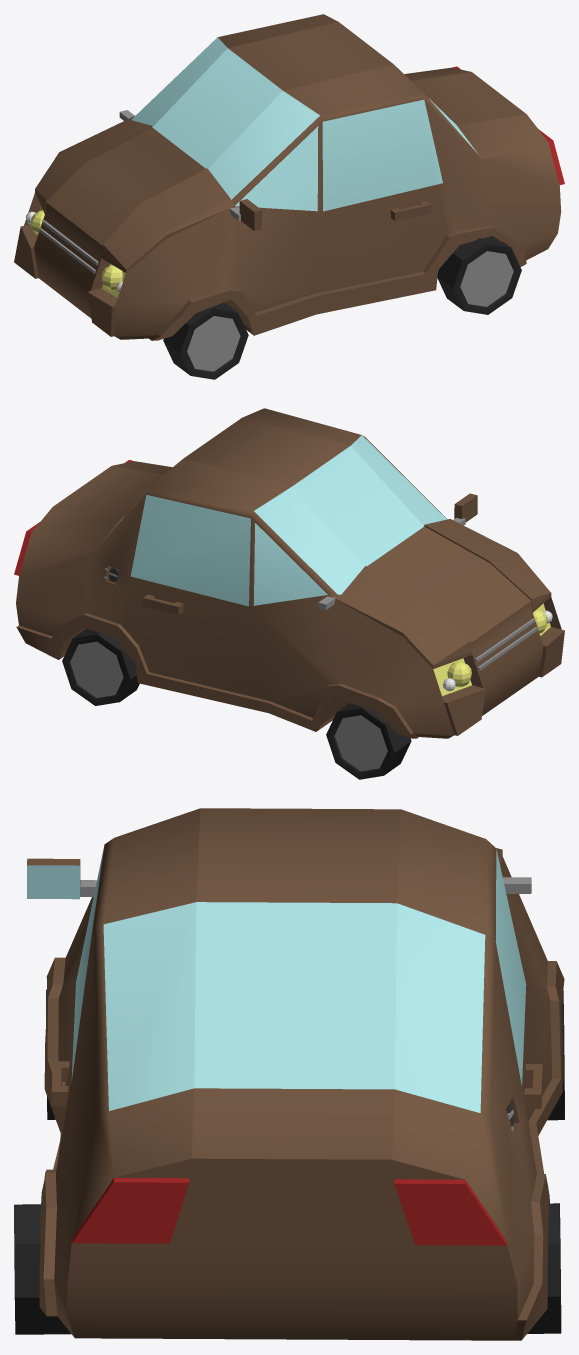
The model's file is CarFixed.fbx.
The picture shows the model from 3 angles, top to bottom: view 1: azimuth 30°, elevation 25°; view 2: azimuth 150°, elevation 25°; view 3: azimuth 270°, elevation 25°; orthographic projection. The views are drawn at different scales.
Visible parts, largest first — view 1: polySurface103; view 2: polySurface103; view 3: polySurface103.
Part boxes in pixels (x1=…): polySurface103: x1=14, y1=14, x2=564, y2=379; polySurface103: x1=14, y1=408, x2=564, y2=779; polySurface103: x1=14, y1=808, x2=564, y2=1340.
Bounding box in the file's own units: 356 × 177 × 216.
